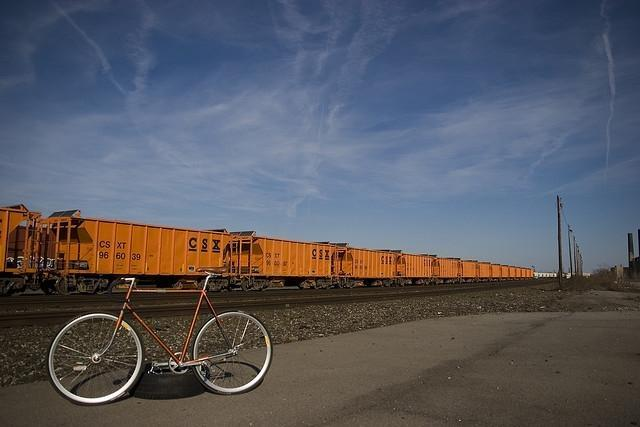bicycle: (48, 270, 275, 406)
